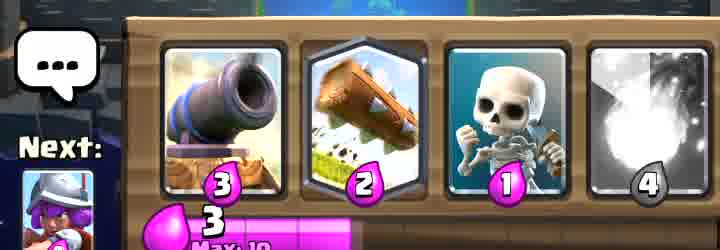cannon: (171, 49, 284, 194)
log: (309, 43, 423, 194)
musketeer: (24, 171, 93, 250)
